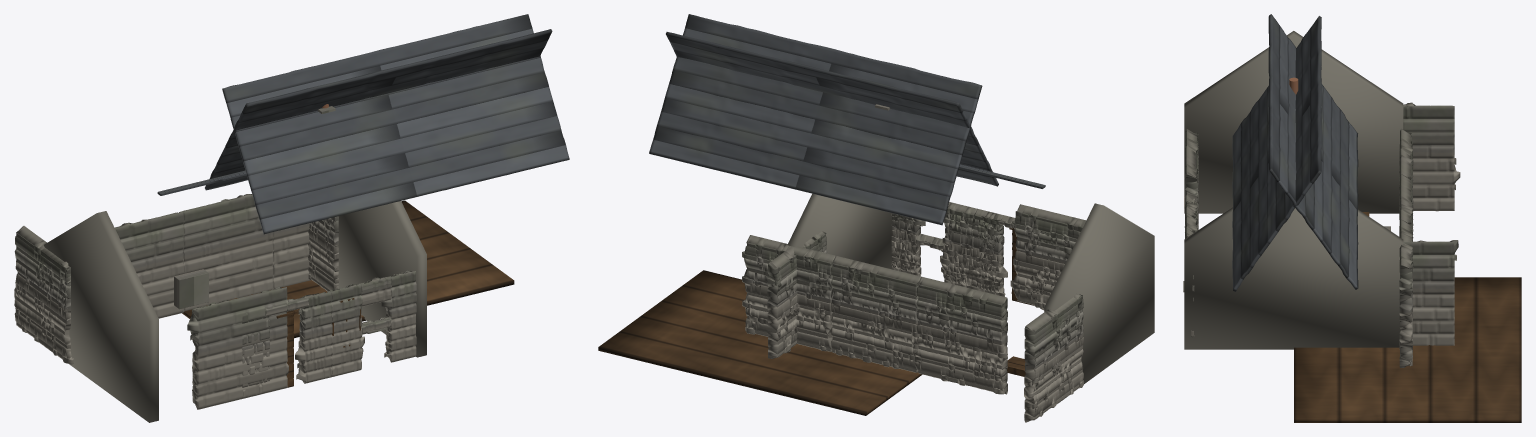
Rendered from tls_env_010_sin_eater_cottage.glb.
3 views of the same model, side by side, from view 1: azimuth 30°, elevation 25°; view 2: azimuth 150°, elevation 25°; view 3: azimuth 270°, elevation 25° (orthographic). The views are drawn at different scales.
Visible parts, largest first — view 1: TLS_Cottage_Roof0, TLS_Cottage_Gable-1, TLS_Cottage_FrontA, TLS_Cottage_Roof1, TLS_Cottage_BackB, TLS_Cottage_Gable1, TLS_Cottage_SideL, TLS_Cottage_Floor, TLS_Cottage_BackA, TLS_Env_Wall_DoorSide1.001, TLS_Env_Wall_WinSide0.001, TLS_Env_Wall_WinSide1.001 (+5 smaller); view 2: TLS_Cottage_Roof1, TLS_Cottage_Floor, TLS_Cottage_Gable-1, TLS_Cottage_BackA, TLS_Cottage_BackB, TLS_Cottage_Roof0, TLS_Cottage_BackC, TLS_Cottage_SideL, TLS_Cottage_Gable1, TLS_Cottage_FrontA, TLS_Cottage_SideR, TLS_Env_Wall_DoorSide1.001 (+2 smaller); view 3: TLS_Cottage_Gable1, TLS_Cottage_Floor, TLS_Cottage_Gable-1, TLS_Cottage_Roof1, TLS_Cottage_Roof0, TLS_Cottage_SideL, TLS_Cottage_SideR, TLS_Cottage_BackC, TLS_Cottage_FrontA, TLS_Cottage_BackA, TLS_Cottage_BackB.
Boxes of the visible parts, bbox=[...] form: TLS_Cottage_Roof0: bbox=[222, 14, 569, 234]; TLS_Cottage_Gable-1: bbox=[44, 211, 158, 422]; TLS_Cottage_FrontA: bbox=[187, 286, 288, 409]; TLS_Cottage_Roof1: bbox=[205, 29, 552, 190]; TLS_Cottage_BackB: bbox=[179, 194, 273, 311]; TLS_Cottage_Gable1: bbox=[338, 201, 426, 357]; TLS_Cottage_SideL: bbox=[14, 226, 73, 364]; TLS_Cottage_Floor: bbox=[182, 200, 514, 338]; TLS_Cottage_BackA: bbox=[115, 211, 184, 318]; TLS_Env_Wall_DoorSide1.001: bbox=[295, 291, 332, 383]; TLS_Env_Wall_WinSide0.001: bbox=[327, 284, 364, 376]; TLS_Env_Wall_WinSide1.001: bbox=[381, 270, 416, 362]; TLS_Cottage_Roof1: bbox=[649, 14, 982, 225]; TLS_Cottage_Floor: bbox=[598, 270, 922, 415]; TLS_Cottage_Gable-1: bbox=[1044, 203, 1154, 383]; TLS_Cottage_BackA: bbox=[914, 276, 1007, 394]; TLS_Cottage_BackB: bbox=[831, 256, 920, 372]; TLS_Cottage_Roof0: bbox=[666, 32, 998, 186]; TLS_Cottage_BackC: bbox=[742, 235, 835, 351]; TLS_Cottage_SideL: bbox=[1024, 293, 1084, 422]; TLS_Cottage_Gable1: bbox=[787, 193, 891, 269]; TLS_Cottage_FrontA: bbox=[1010, 204, 1086, 309]; TLS_Cottage_SideR: bbox=[767, 231, 827, 358]; TLS_Env_Wall_DoorSide1.001: bbox=[970, 208, 1007, 296]; TLS_Cottage_Gable1: bbox=[1184, 207, 1403, 349]; TLS_Cottage_Floor: bbox=[1294, 277, 1521, 422]; TLS_Cottage_Gable-1: bbox=[1184, 31, 1403, 213]; TLS_Cottage_Roof1: bbox=[1268, 14, 1358, 289]; TLS_Cottage_Roof0: bbox=[1232, 16, 1321, 291]; TLS_Cottage_SideL: bbox=[1403, 102, 1460, 211]; TLS_Cottage_SideR: bbox=[1403, 240, 1458, 345]; TLS_Cottage_BackC: bbox=[1399, 219, 1413, 367]; TLS_Cottage_FrontA: bbox=[1184, 129, 1198, 230]; TLS_Cottage_BackA: bbox=[1399, 129, 1413, 231]; TLS_Cottage_BackB: bbox=[1399, 174, 1413, 237].
Size of what is drawn, in the model's own units: 12.07 by 6.61 by 7.58.
Materials: 6 (4 with a texture image).
